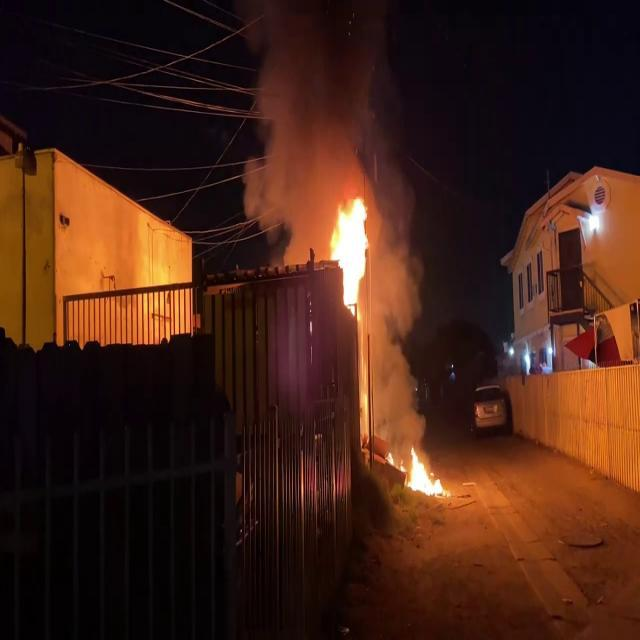Fire: (326, 190, 373, 312), (402, 442, 449, 502)
Smoke: (232, 1, 422, 226), (356, 213, 419, 438)
